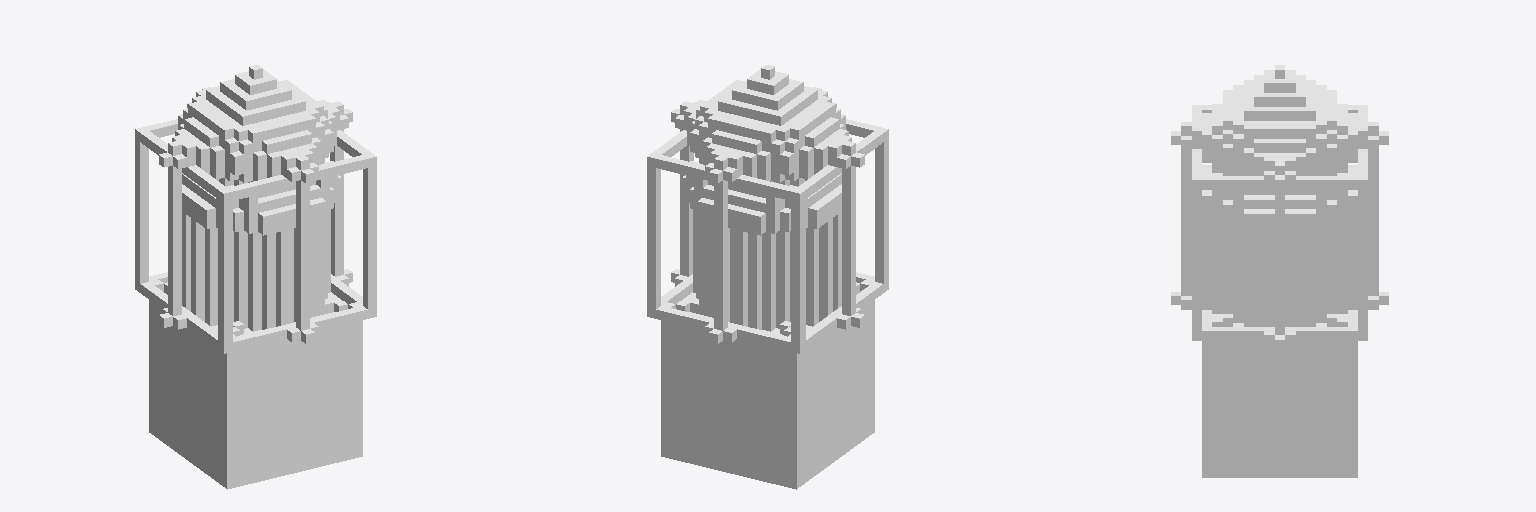
File: ElectroGun.obj
3 renders of one model, left to right at view 1: azimuth 30°, elevation 25°; view 2: azimuth 150°, elevation 25°; view 3: azimuth 270°, elevation 25°, orthographic.
Parts seen in each view (by area): view 1: object 1; view 2: object 1; view 3: object 1.
Boxes of the visible parts, <box> form: object 1: <box>135,65,376,489</box>; object 1: <box>647,65,888,489</box>; object 1: <box>1171,65,1388,477</box>.
Size of the model in its own units: 2.1 by 4 by 2.1.